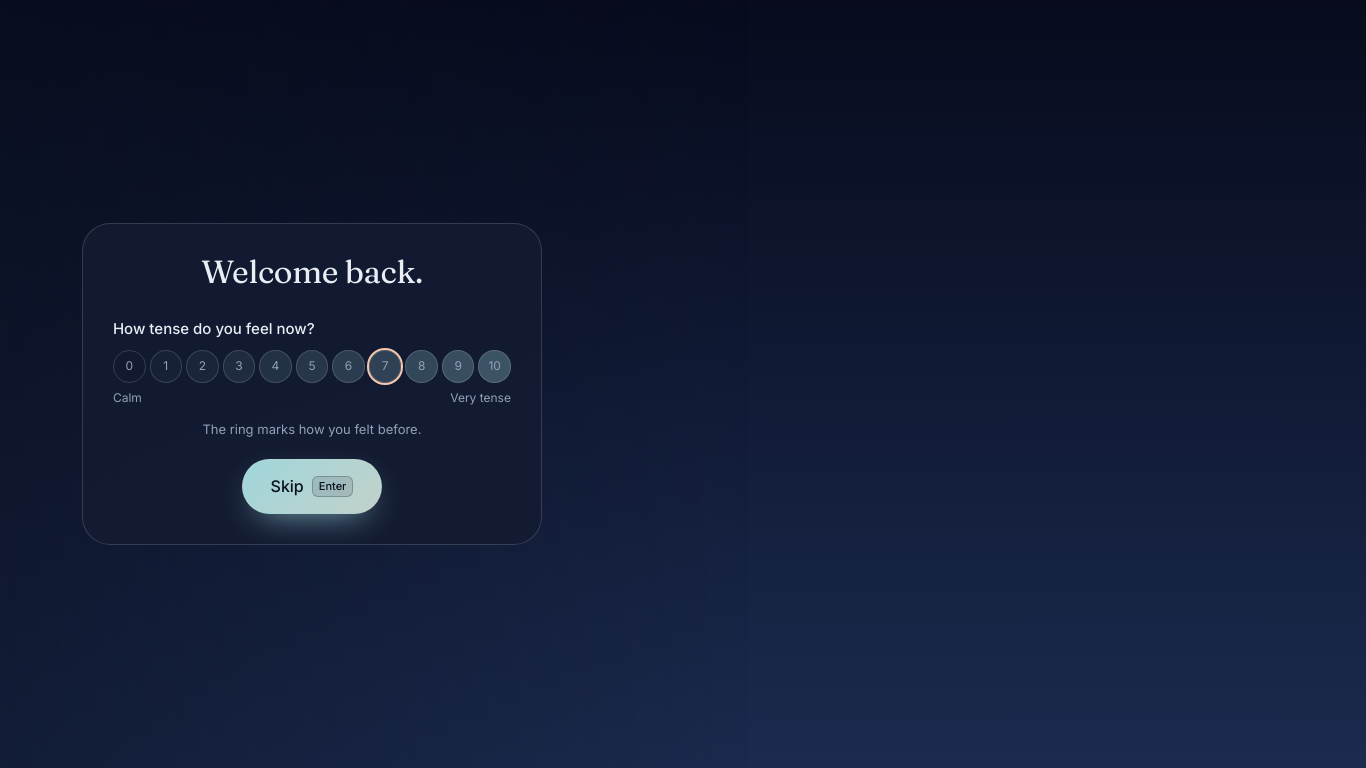
Test case: summary › checks out, shows the change in tension and saves the session
Click the radio button labelled "3" at x=239, y=366, box x1=223 y1=350 x2=255 y2=382
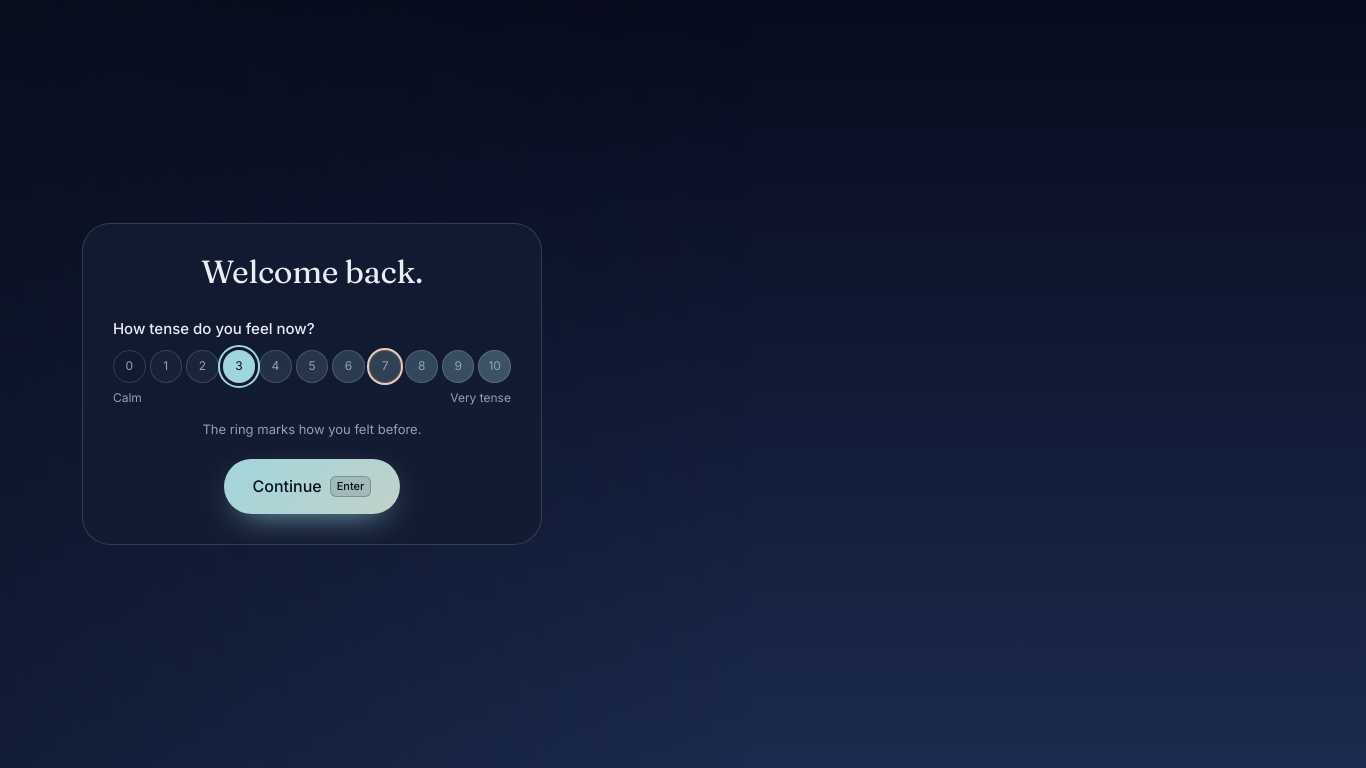
Click the button "Continue Enter" at x=312, y=487, box x1=224 y1=459 x2=400 y2=514
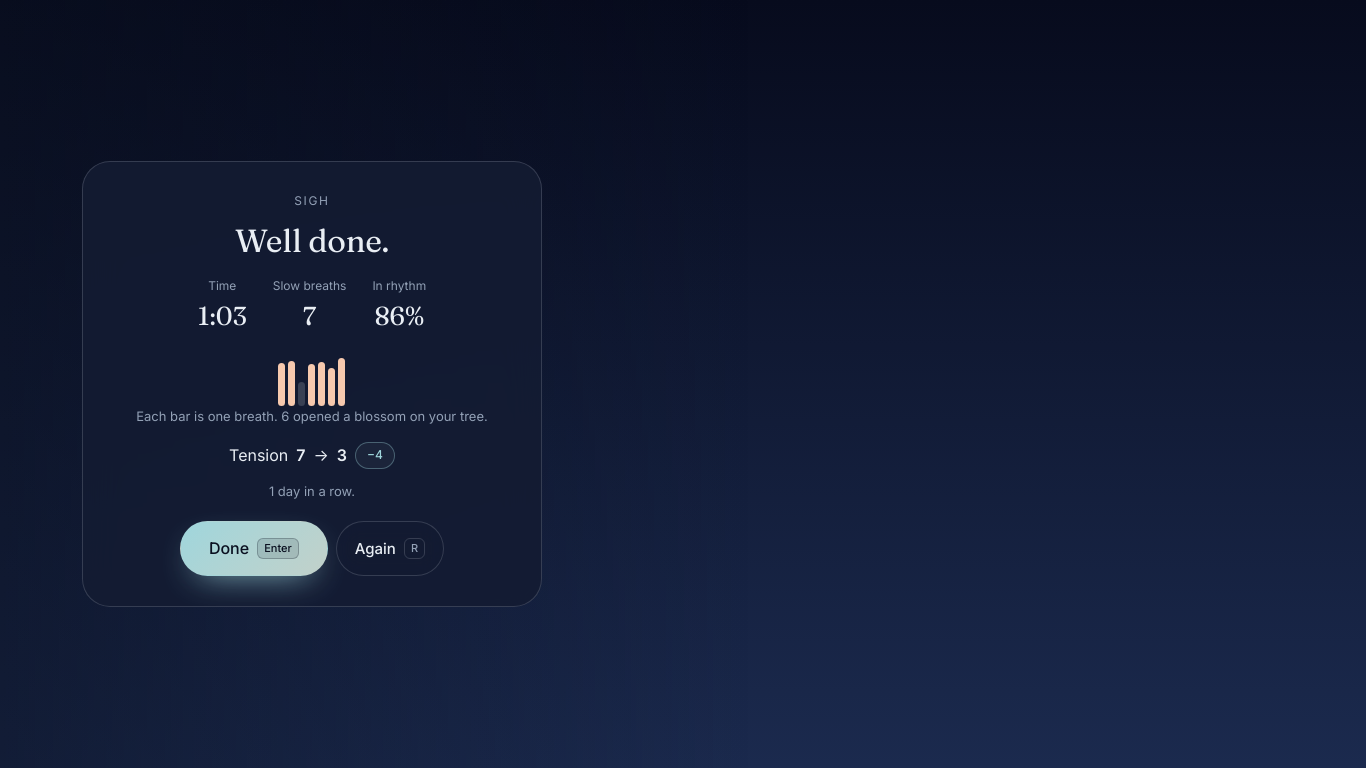
Now the element with test id "tension-result" reads "Tension 7 → 3 −4", box x1=229 y1=442 x2=395 y2=469
Now the text "86%" is shown, box x1=372 y1=296 x2=426 y2=336
Now the element named "6 of 7 breaths in rhythm" is shown, box x1=113 y1=358 x2=511 y2=426
